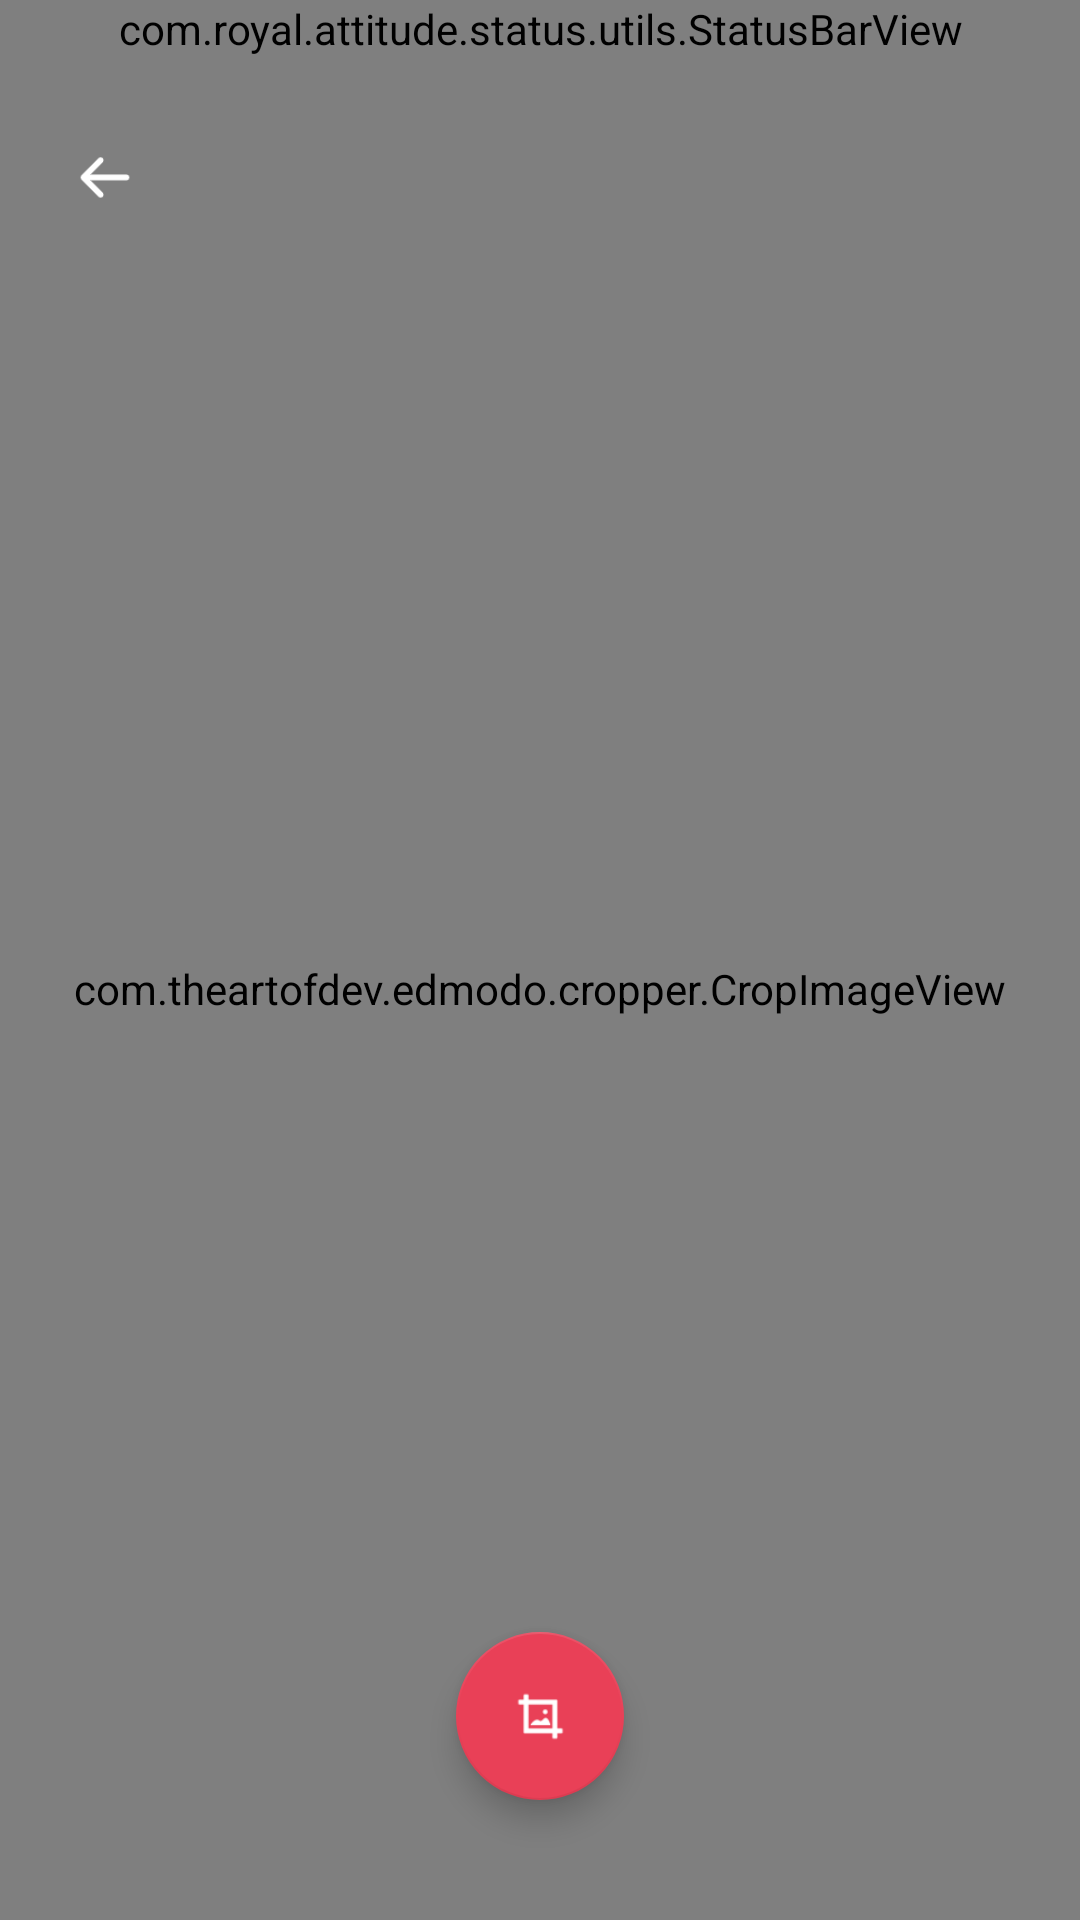

Where to tap for icons on this 1080px x 1920px app screen, as (x=x, y=y):
back: (x=105, y=177)
